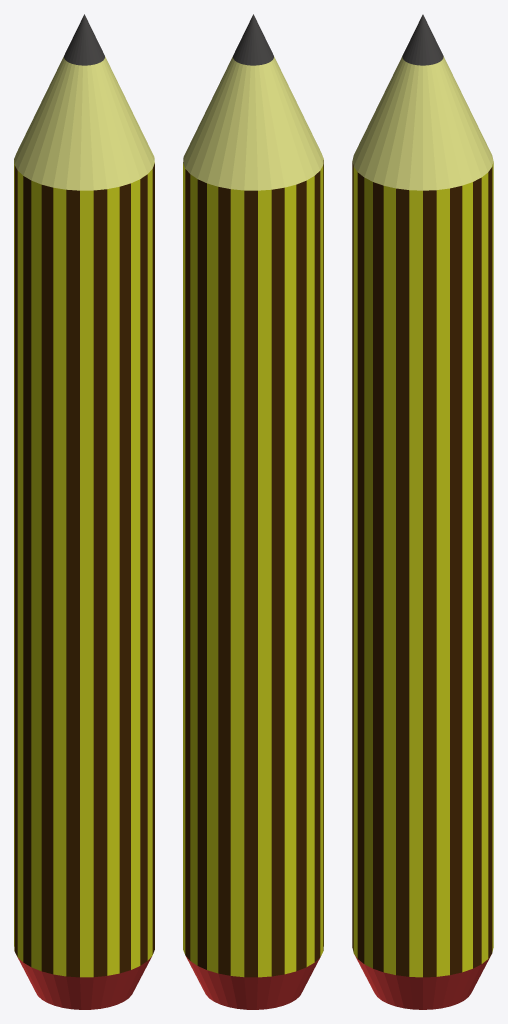
The model's file is lapiz.fbx.
3 views of the same model, side by side, from view 1: azimuth 30°, elevation 25°; view 2: azimuth 150°, elevation 25°; view 3: azimuth 270°, elevation 25° (orthographic).
Parts seen in each view (by area): view 1: Cylinder; view 2: Cylinder; view 3: Cylinder.
Part boxes in pixels (x1,y1,x2,y2): Cylinder: [14, 14, 154, 1009]; Cylinder: [183, 14, 323, 1009]; Cylinder: [352, 14, 493, 1009].
Bounding box in the file's own units: 27.17 × 207 × 27.17.
